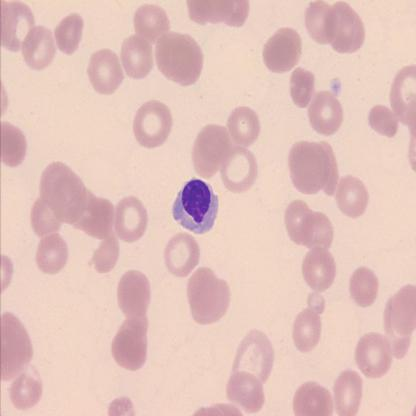NRC: (171, 174, 221, 236)
